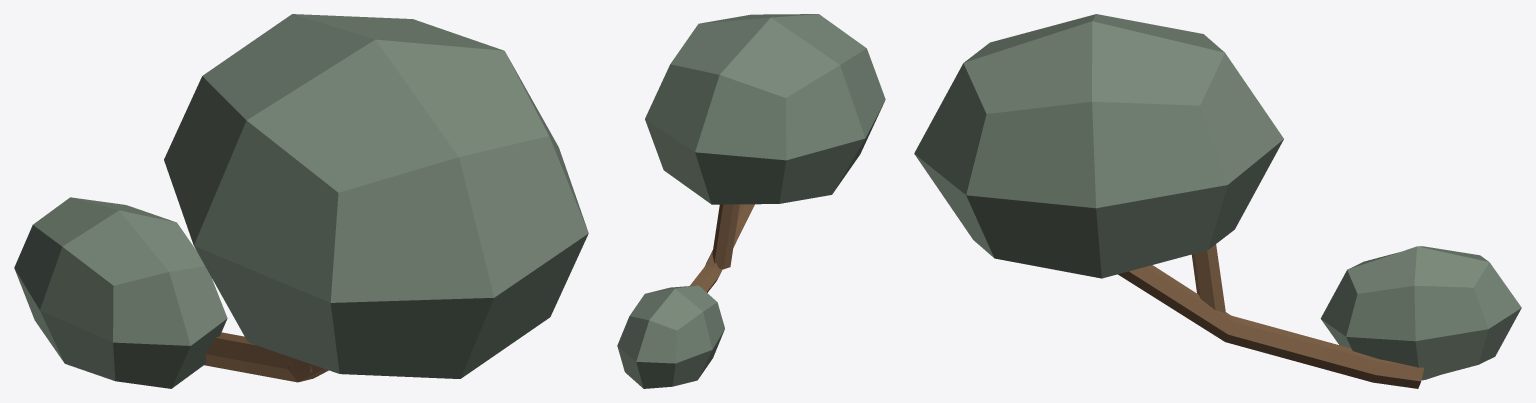
File: Branch_Tree.fbx
The picture shows the model from 3 angles, left to right: view 1: azimuth 30°, elevation 25°; view 2: azimuth 150°, elevation 25°; view 3: azimuth 270°, elevation 25°; orthographic projection. The views are drawn at different scales.
Visible parts, largest first — view 1: Branch_Tree; view 2: Branch_Tree; view 3: Branch_Tree.
Part boxes in pixels (x1,y1,x2,y2): Branch_Tree: [14, 14, 588, 388]; Branch_Tree: [617, 14, 885, 388]; Branch_Tree: [914, 14, 1521, 388].
Bounding box in the file's own units: 112 × 145 × 215.
